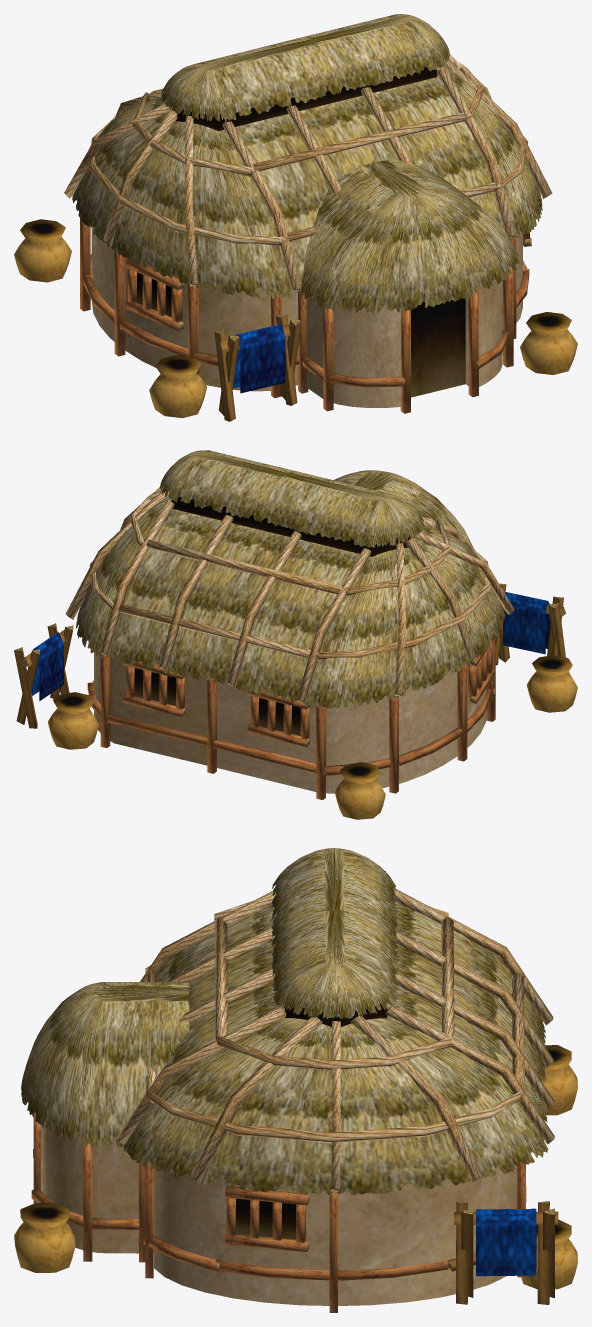
The model's file is house_2.dae.
The picture shows the model from 3 angles, top to bottom: view 1: azimuth 30°, elevation 25°; view 2: azimuth 150°, elevation 25°; view 3: azimuth 270°, elevation 25°; orthographic projection. The views are drawn at different scales.
Visible parts, largest first — view 1: house_2; view 2: house_2; view 3: house_2.
Boxes of the visible parts, x1=… form: house_2: x1=14, y1=14, x2=577, y2=421; house_2: x1=14, y1=450, x2=577, y2=819; house_2: x1=14, y1=848, x2=577, y2=1312.
Size of the model in its own units: 12.01 by 11.81 by 6.97.
